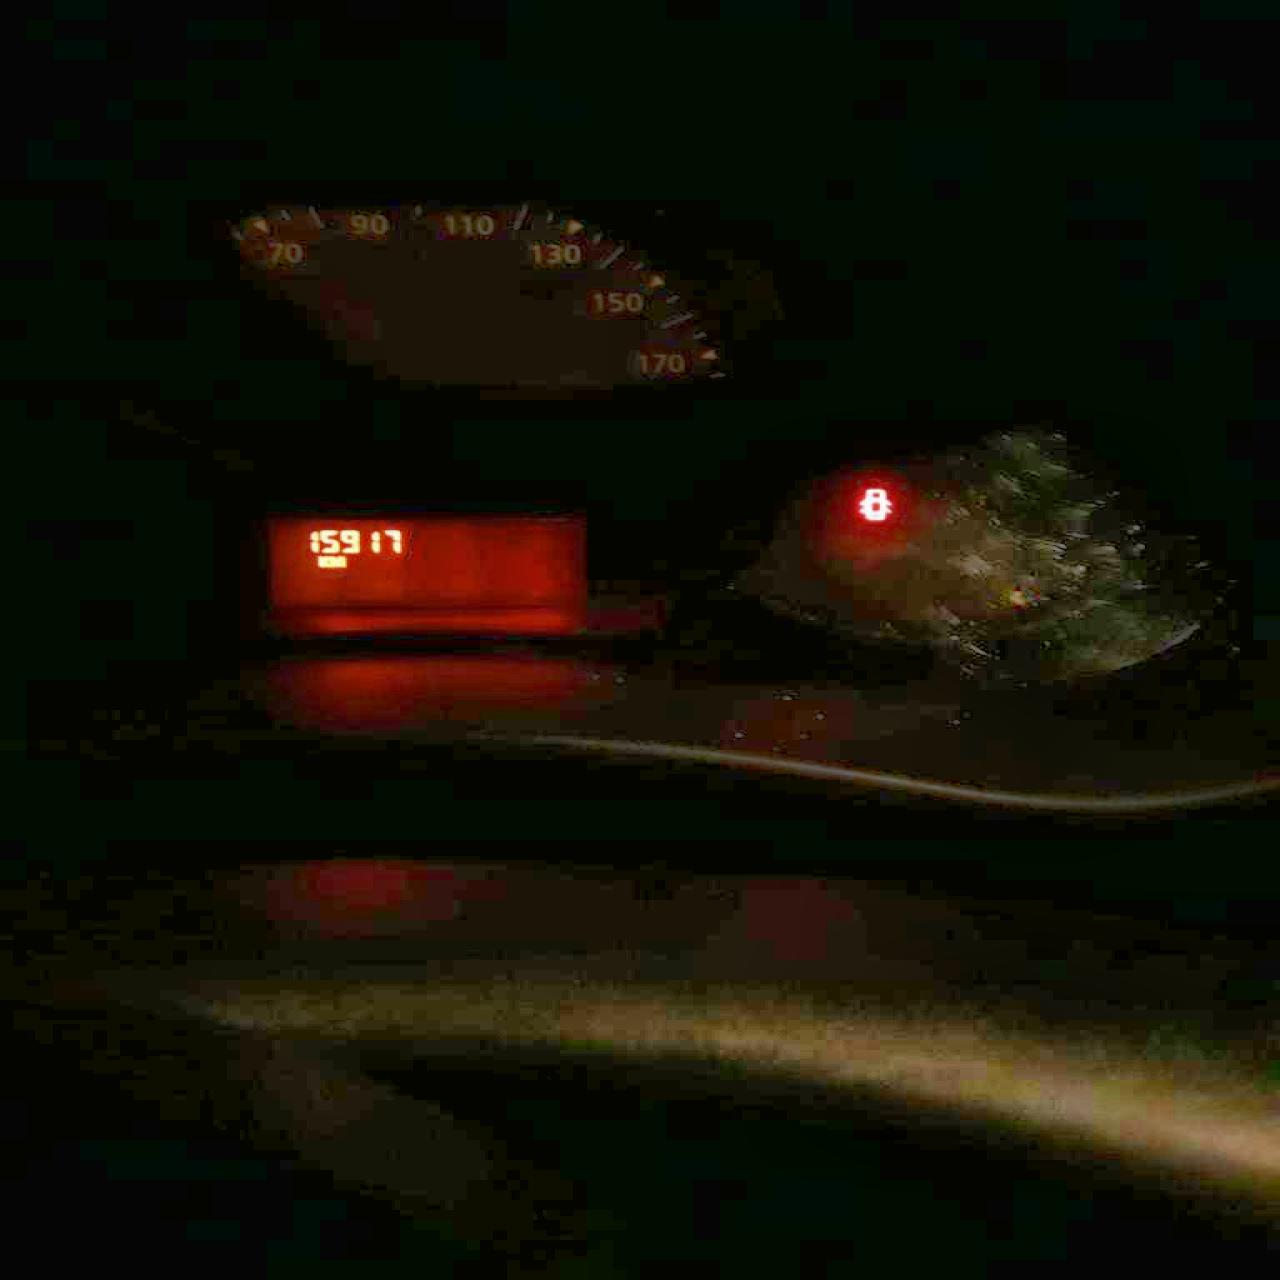1: (307, 529, 319, 552), (368, 530, 380, 552)
5: (319, 529, 339, 552)
7: (381, 529, 402, 552)
9: (336, 527, 360, 552)
X: (328, 553, 347, 566), (315, 553, 328, 567)
odometer: (261, 512, 591, 613)
